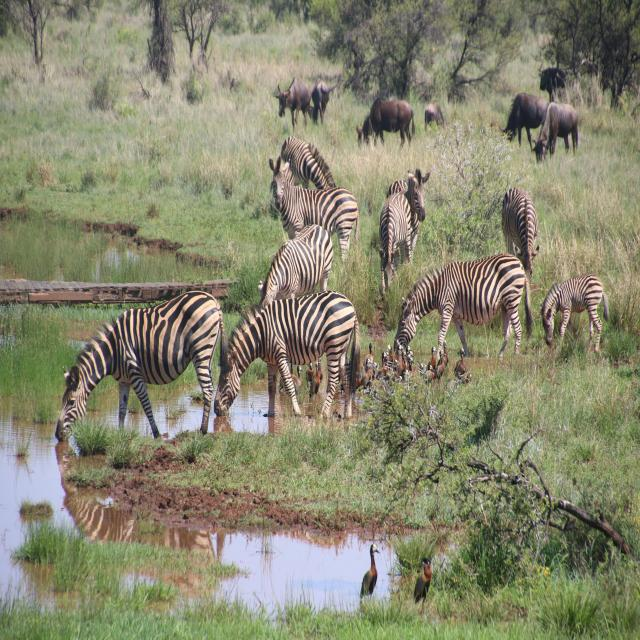Zebra: (56, 289, 230, 439), (214, 290, 361, 420), (394, 252, 533, 359), (268, 155, 359, 262), (258, 223, 334, 310), (541, 274, 609, 355), (386, 168, 431, 265), (501, 186, 540, 284), (274, 136, 335, 190), (379, 194, 412, 292)
